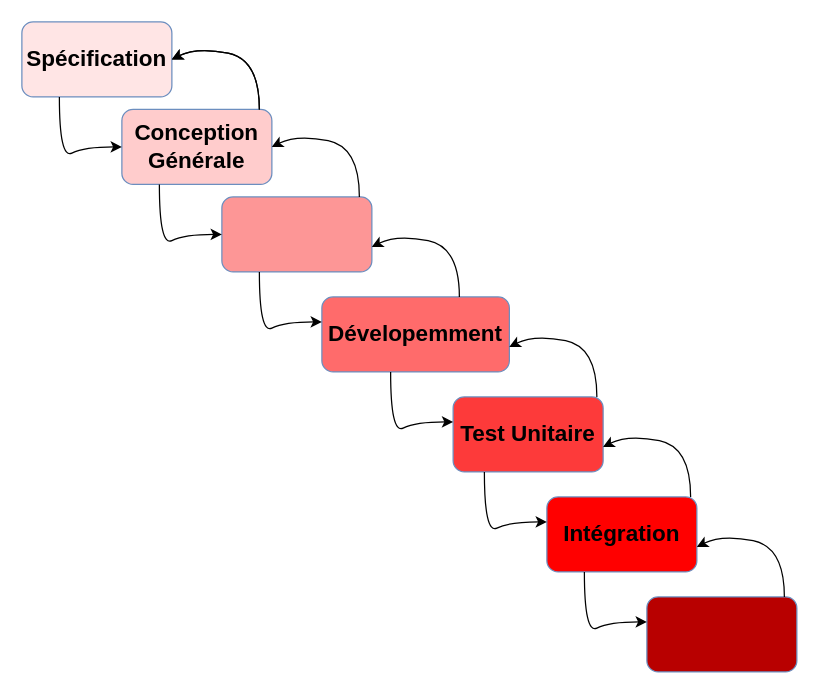
The diagram is 819 pixels wide and 694 high, and some of its shapes have lost their labels. Here are the shapes that lost their labels. From the top down, the box of each, then its label:
(221, 196, 372, 272): Conception Détaillé
(646, 596, 797, 672): Validation
